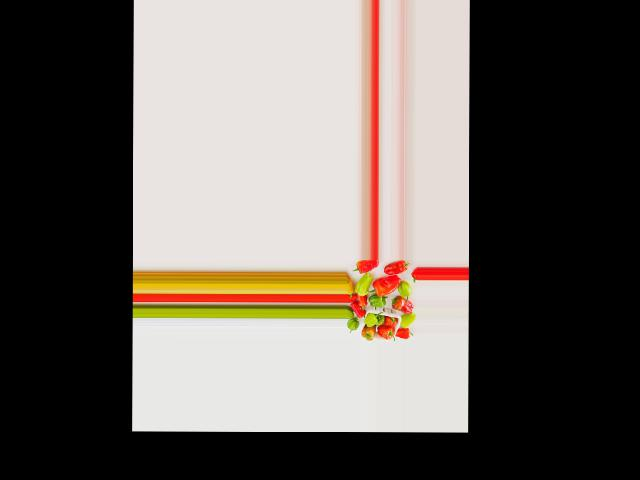bell_pepper: (351, 259, 375, 275)
